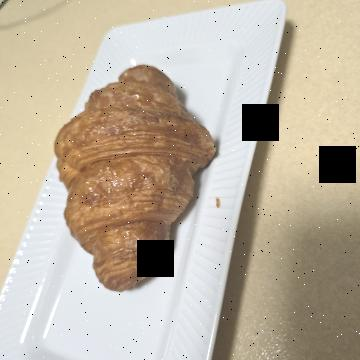croissant: (52, 136, 304, 315)
